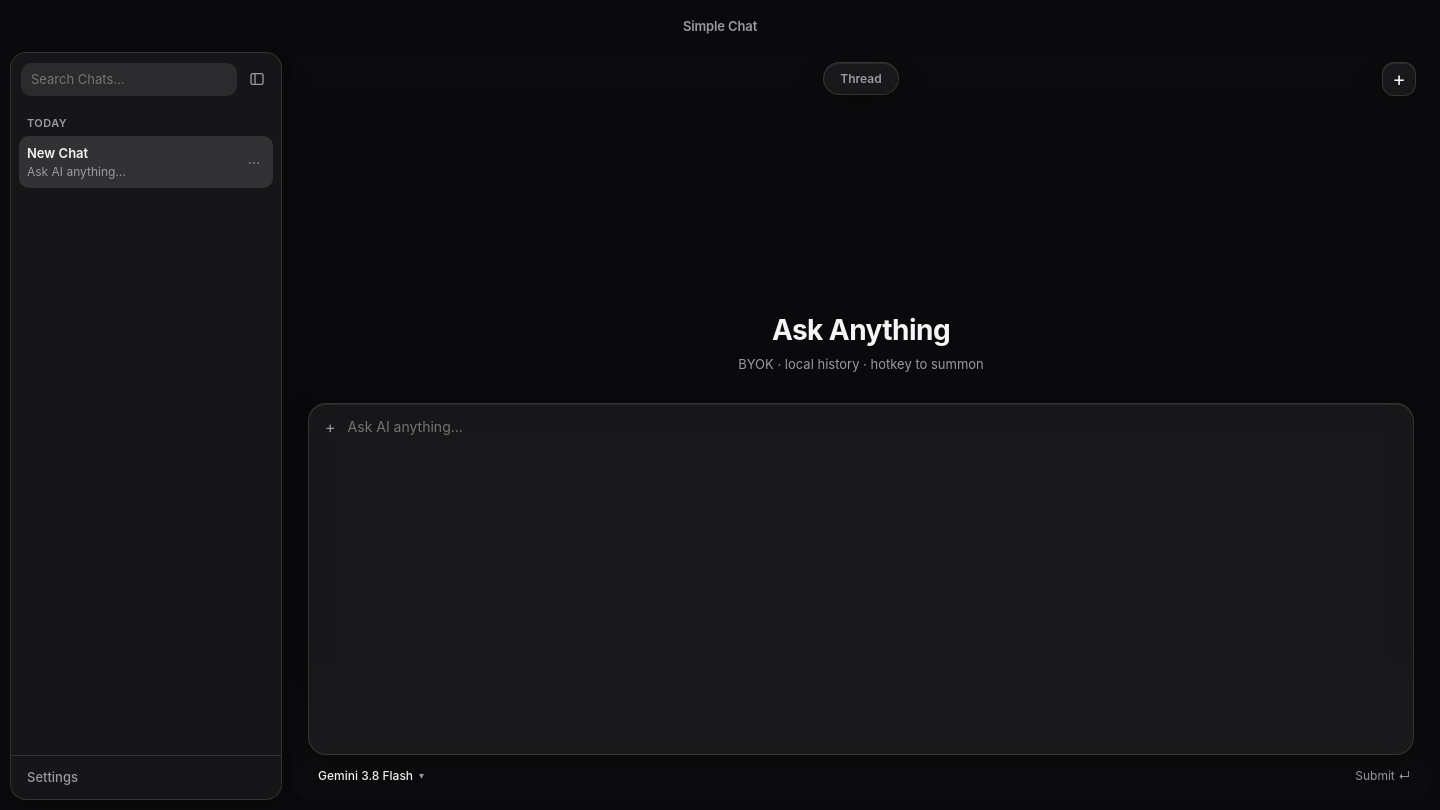
Scenario: App UX › ignores a stale boot login-item probe after Settings settles
This screenshot has width=1440, height=810.
Expected: the heading "Ask Anything" is shown, [772,313,950,347]
Click the button "Settings": [52, 777] box [11,755,281,799]
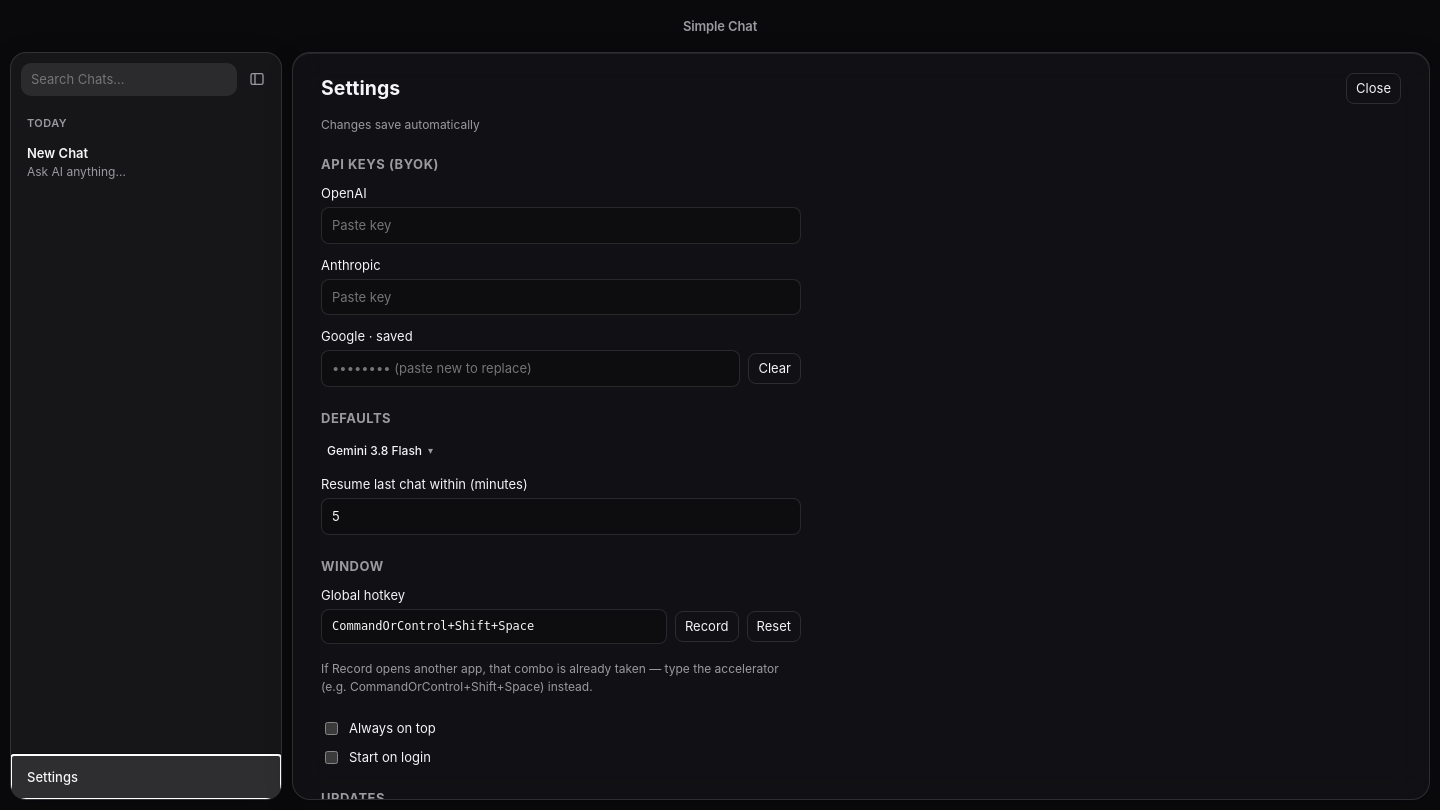
Expected: the checkbox labelled "Start on login" is enabled
Click the checkbox labelled "Start on login": [332, 757] box [325,751,338,764]
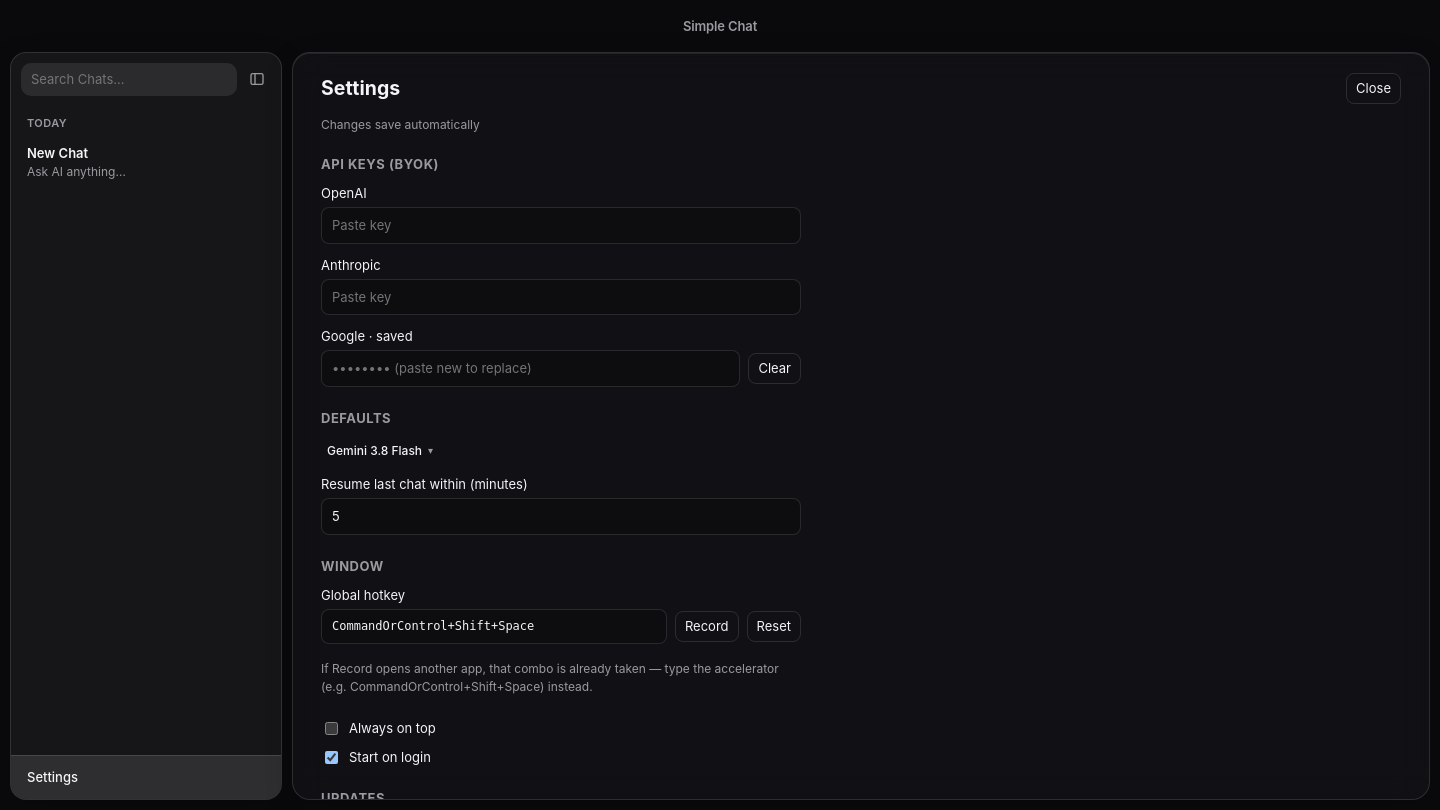
Click the button "Close": [1374, 88] box [1346,73,1401,104]
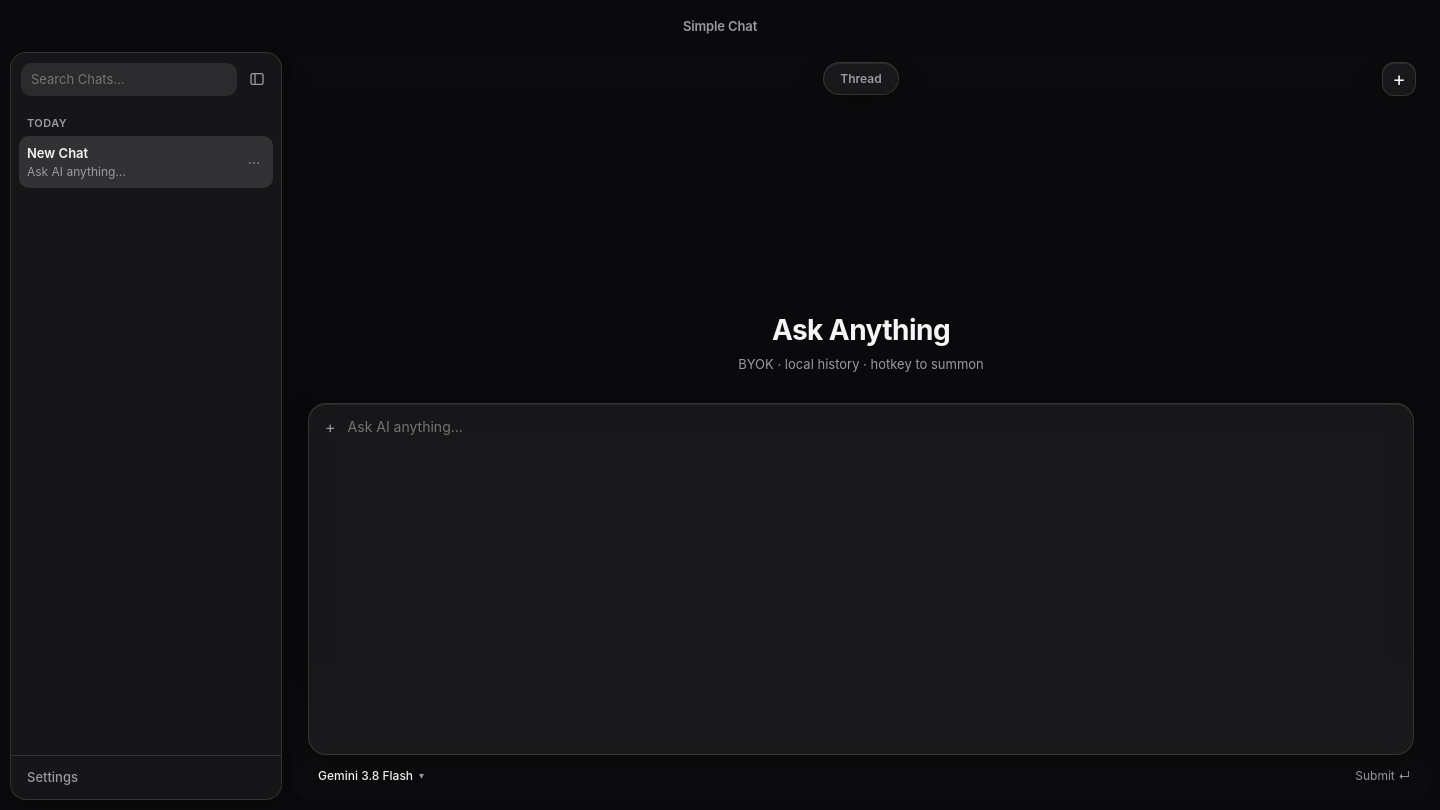
Expected: the heading "Ask Anything" is shown, [772,313,950,347]
